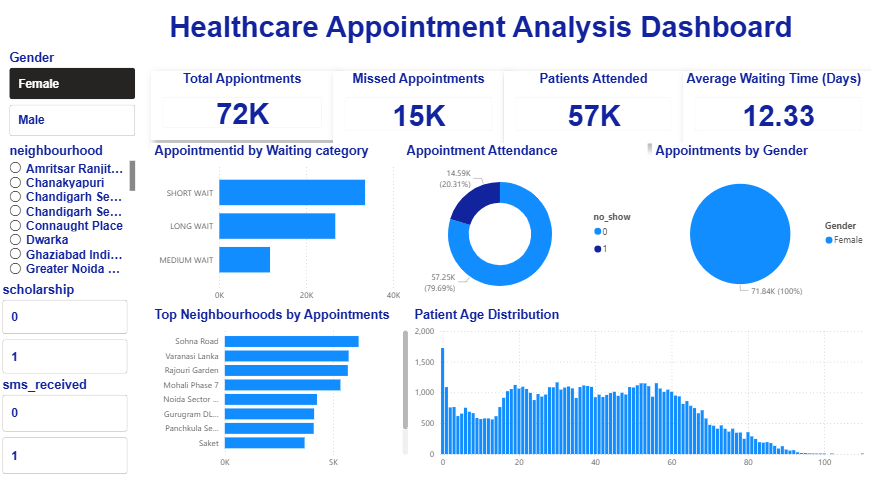

The dashboard page shown, as its layout file describes it:
{"tool":"powerbi","page":{"name":"Page 1","canvas":[1280,720],"ordinal":0},"visuals":[{"type":"cardVisual","title":"Total Appiontments","fields":{"Data":["KaggleV2 234.Total Appointment"]},"box":[221.7,112.5,267.1,100.8],"z":0},{"type":"cardVisual","title":"Missed Appointments","fields":{"Data":["KaggleV2 234.Total NoShow"]},"box":[488.8,112.5,250.3,105.8],"z":1000},{"type":"cardVisual","title":"Patients Attended","fields":{"Data":["KaggleV2 234.Total Attended"]},"box":[739.1,112.5,262,105.8],"z":2000},{"type":"cardVisual","title":"Average Waiting Time (Days)","fields":{"Data":["KaggleV2 234.Avg Waiting Days"]},"box":[1001.2,112.5,278.8,105.8],"z":3000},{"type":"donutChart","title":"Appointment Attendance","fields":{"Y":["CountNonNull(KaggleV2 234.appointmentid)"],"Category":["KaggleV2 234.no_show"]},"box":[591.3,218.4,357.8,245.2],"z":4000},{"type":"pieChart","title":"Appointments by Gender","fields":{"Category":["KaggleV2 234.Gender"],"Y":["CountNonNull(KaggleV2 234.appointmentid)"]},"box":[955.8,218.4,324.2,245.2],"z":5000},{"type":"barChart","title":"Appointmentid by Waiting category","fields":{"Category":["KaggleV2 234.Waiting category"],"Y":["CountNonNull(KaggleV2 234.appointmentid)"]},"box":[221.7,218.4,369.6,240.2],"z":6000},{"type":"barChart","title":"Top Neighbourhoods by Appointments","fields":{"Category":["KaggleV2 234.neighbourhood"],"Y":["CountNonNull(KaggleV2 234.appointmentid)"]},"box":[221.7,458.6,381.3,245.2],"z":7000},{"type":"clusteredColumnChart","title":"Patient Age Distribution","fields":{"Y":["CountNonNull(KaggleV2 234.appointmentid)"],"Category":["KaggleV2 234.age"]},"box":[603,458.6,677,245.2],"z":8000},{"type":"advancedSlicerVisual","fields":{"Values":["KaggleV2 234.Gender"]},"box":[10.1,82.3,194.9,131],"z":9000},{"type":"listSlicer","fields":{"Values":["KaggleV2 234.neighbourhood"]},"box":[10.1,218.4,194.9,203.3],"z":9001},{"type":"advancedSlicerVisual","fields":{"Values":["KaggleV2 234.scholarship"]},"box":[0,421.6,193.2,139.4],"z":9002},{"type":"advancedSlicerVisual","fields":{"Values":["KaggleV2 234.sms_received"]},"box":[0,561,193.2,147.8],"z":9003},{"type":"textbox","box":[193.2,18.5,1024.7,63.8],"z":9004}]}

Visuals, with their boxes in screenshot pixels (x1, y1, x2, y2), scaled from the page's 1280x720 canvas onto the 871x483 screenshot:
"Total Appiontments" cardVisual: l=151, t=75, r=333, b=143
"Missed Appointments" cardVisual: l=333, t=75, r=503, b=146
"Patients Attended" cardVisual: l=503, t=75, r=681, b=146
"Average Waiting Time (Days)" cardVisual: l=681, t=75, r=870, b=146
"Appointment Attendance" donutChart: l=402, t=147, r=646, b=311
"Appointments by Gender" pieChart: l=650, t=147, r=870, b=311
"Appointmentid by Waiting category" barChart: l=151, t=147, r=402, b=308
"Top Neighbourhoods by Appointments" barChart: l=151, t=308, r=410, b=472
"Patient Age Distribution" clusteredColumnChart: l=410, t=308, r=870, b=472
advancedSlicerVisual - KaggleV2 234.Gender: l=7, t=55, r=139, b=143
listSlicer - KaggleV2 234.neighbourhood: l=7, t=147, r=139, b=283
advancedSlicerVisual - KaggleV2 234.scholarship: l=0, t=283, r=131, b=376
advancedSlicerVisual - KaggleV2 234.sms_received: l=0, t=376, r=131, b=475
textbox: l=131, t=12, r=829, b=55
